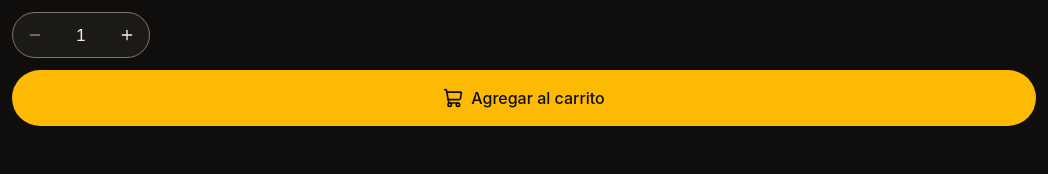
Test: PurchaseForm › does not tell the cart about a failed add
Click the button "Agregar al carrito".
click(524, 98)  # box [12,70,1036,126]
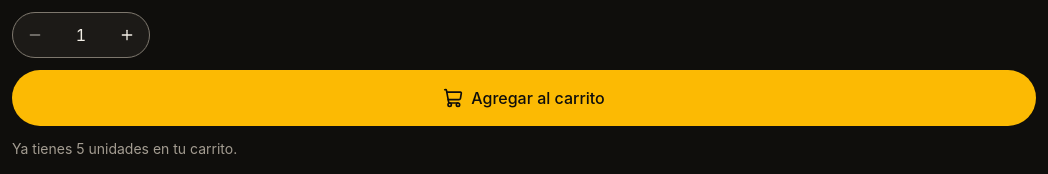
Now the message reads "Ya tienes 5 unidades en tu carrito.", box [12,140,237,157]
